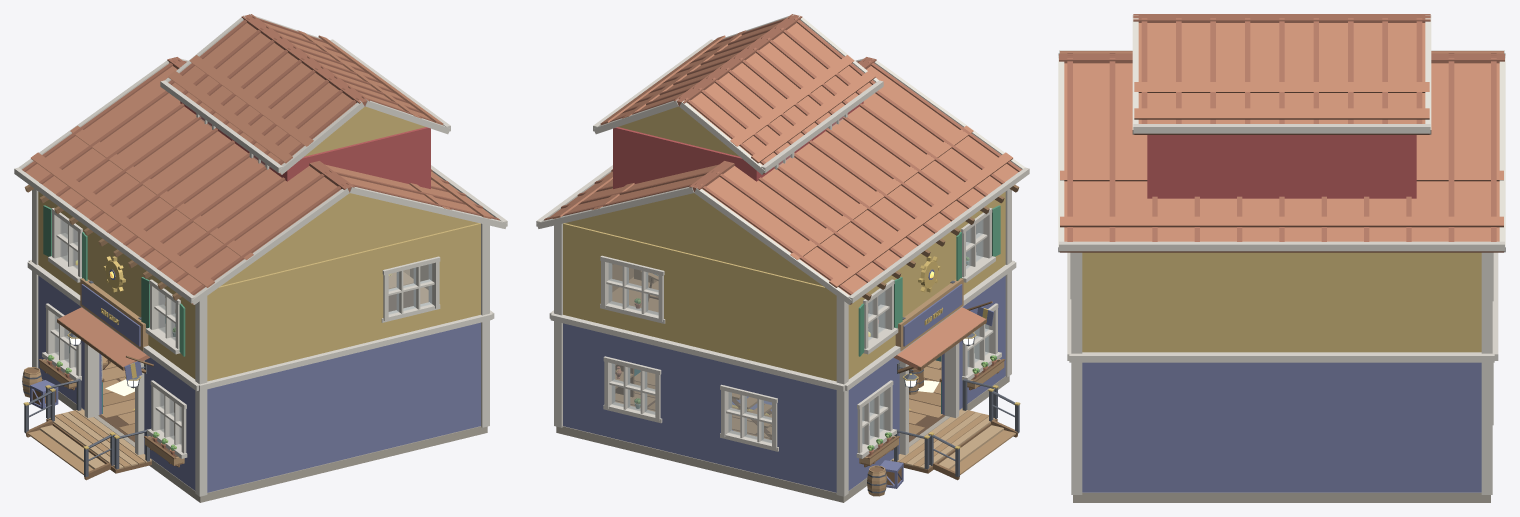
Rendered from LP_Shop_KimKhuy.fbx.
The picture shows the model from 3 angles, left to right: view 1: azimuth 30°, elevation 25°; view 2: azimuth 150°, elevation 25°; view 3: azimuth 270°, elevation 25°; orthographic projection. The views are drawn at different scales.
Parts seen in each view (by area): view 1: Wall_South_F1, Roof_Slab_-1.0, Wall_South_F2_SW, UpperStepRoof_Slab_-1.0, Roof_GableWall, UpperStepTower, Wall_South_F2_SE, BasePlinth, BeltTrim_S, CornerPost_-4.4_-4.4, Wall_West_F2_C, UpperStepRoof_GableWall (+49 smaller); view 2: Roof_Slab_-1.0, Wall_North_F2_NW, UpperStepRoof_Slab_-1.0, Roof_GableWall, Wall_North_F1_Mid, Wall_North_F1_W, UpperStepTower, Wall_North_F1_E, Wall_North_F2_NE, BasePlinth, BeltTrim_N, CornerPost_-4.4_4.4 (+59 smaller); view 3: Wall_Back_F1, Wall_Back_F2, Roof_Slab_1.0, UpperStepRoof_Slab_1.0, UpperStepTower, Roof_Course_1.0_3, Roof_EaveTrim_1.0, BeltTrim_E, BasePlinth, UpperStepRoof_Course_1.0_3, UpperStepRoof_Course_1.0_2, UpperStepRoof_EaveTrim_1.0 (+23 smaller).
Part boxes in pixels (<box>): Wall_South_F1: <box>207,322,480,492</box>; Roof_Slab_-1.0: <box>22,64,341,304</box>; Wall_South_F2_SW: <box>207,246,385,381</box>; UpperStepRoof_Slab_-1.0: <box>168,20,356,174</box>; Roof_GableWall: <box>221,193,478,285</box>; UpperStepTower: <box>180,101,430,188</box>; Wall_South_F2_SE: <box>435,223,480,325</box>; BasePlinth: <box>42,379,487,502</box>; BeltTrim_S: <box>199,313,492,390</box>; CornerPost_-4.4_-4.4: <box>195,296,207,496</box>; Wall_West_F2_C: <box>81,223,153,348</box>; UpperStepRoof_GableWall: <box>304,107,425,156</box>; Roof_Slab_-1.0: <box>702,64,1021,304</box>; Wall_North_F2_NW: <box>662,247,836,381</box>; UpperStepRoof_Slab_-1.0: <box>687,20,875,174</box>; Roof_GableWall: <box>565,193,822,285</box>; Wall_North_F1_Mid: <box>658,347,724,465</box>; Wall_North_F1_W: <box>775,375,836,492</box>; UpperStepTower: <box>613,101,863,188</box>; Wall_North_F1_E: <box>563,323,607,436</box>; Wall_North_F2_NE: <box>563,223,604,324</box>; BasePlinth: <box>556,376,1009,502</box>; BeltTrim_N: <box>550,313,844,391</box>; CornerPost_-4.4_4.4: <box>836,296,848,496</box>; Wall_Back_F1: <box>1082,362,1481,492</box>; Wall_Back_F2: <box>1082,252,1481,352</box>; Roof_Slab_1.0: <box>1060,63,1503,252</box>; UpperStepRoof_Slab_1.0: <box>1134,23,1429,134</box>; UpperStepTower: <box>1147,135,1416,198</box>; Roof_Course_1.0_3: <box>1060,216,1503,227</box>; Roof_EaveTrim_1.0: <box>1059,241,1504,251</box>; BeltTrim_E: <box>1069,352,1494,362</box>; BasePlinth: <box>1073,492,1490,502</box>; UpperStepRoof_Course_1.0_3: <box>1134,108,1429,119</box>; UpperStepRoof_Course_1.0_2: <box>1134,82,1429,92</box>; UpperStepRoof_EaveTrim_1.0: <box>1133,124,1430,133</box>.
Bounding box in the file's own units: 11.41 × 10.16 × 9.63.
